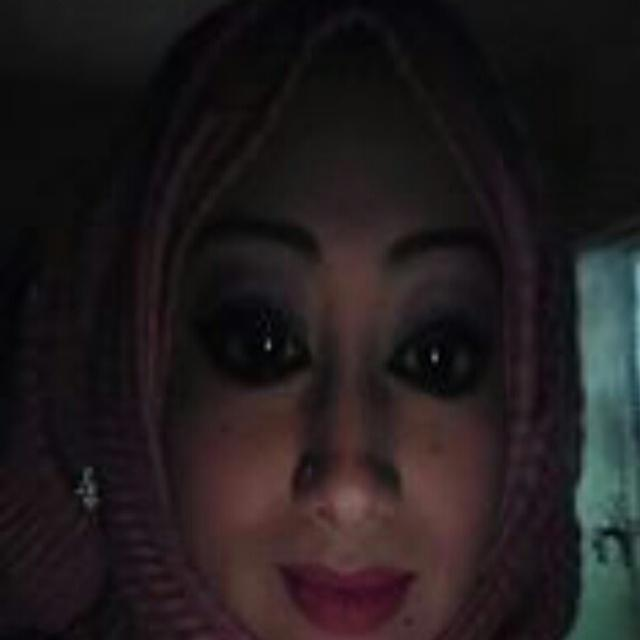Natural: (160, 83, 640, 640)
